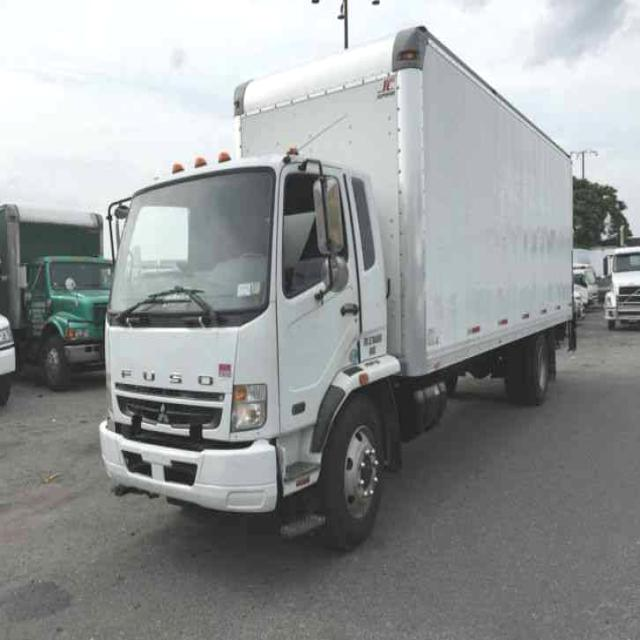truck: (99, 26, 573, 544)
